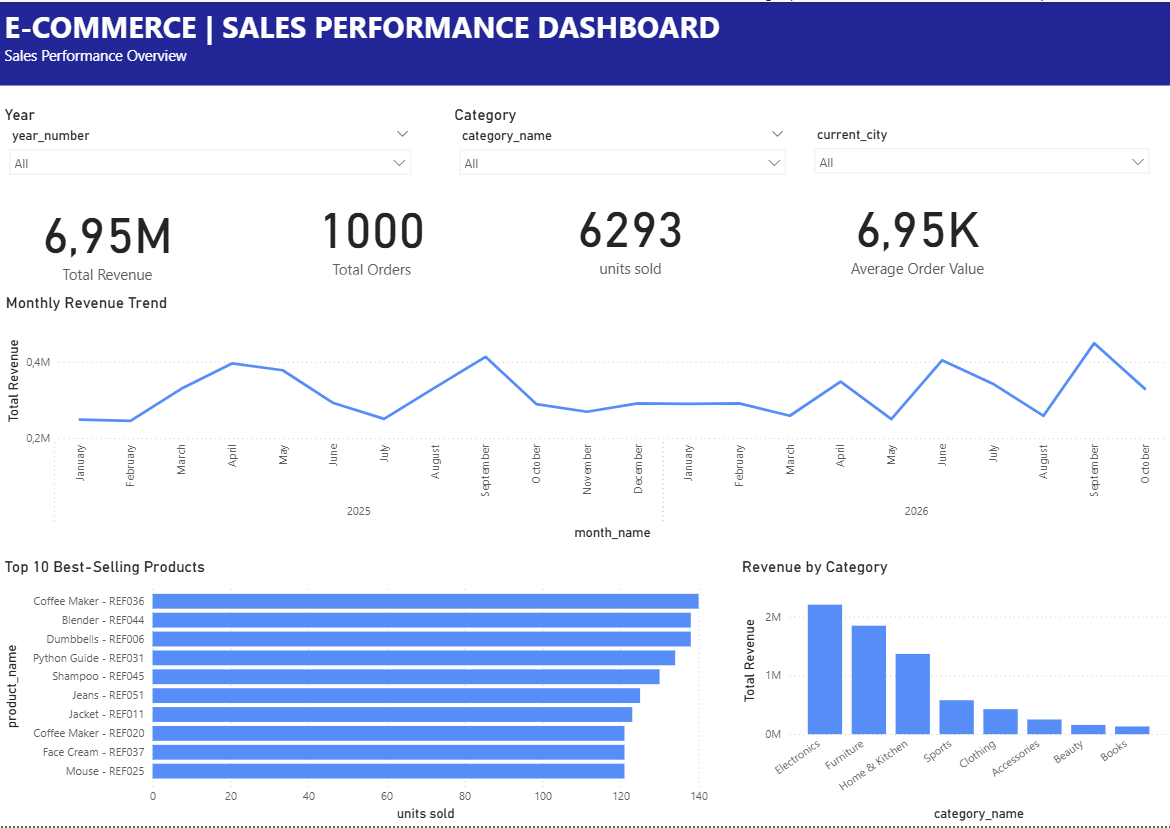

What the dashboard file says about the page in this screenshot:
{"tool":"powerbi","page":{"name":"Page 1","canvas":[1280,900],"ordinal":0},"visuals":[{"type":"card","fields":{"Values":["analytics fact_sales.Total Revenue"]},"box":[1.4,203.4,232,111.9],"z":0},{"type":"card","fields":{"Values":["analytics fact_sales.Total Orders"]},"box":[294.8,203.4,222.5,99.6],"z":1000},{"type":"card","fields":{"Values":["analytics fact_sales.units sold"]},"box":[571.9,203.4,233.4,98.3],"z":2000},{"type":"card","fields":{"Values":["analytics fact_sales.Average Order Value"]},"box":[902.2,197.9,199.3,109.2],"z":3000},{"type":"lineChart","title":"Monthly Revenue Trend","fields":{"Category":["analytics dim_date.year_number","analytics dim_date.month_name"],"Y":["analytics fact_sales.Total Revenue"]},"box":[1.4,318,1276.2,274.3],"z":4000},{"type":"clusteredBarChart","title":"Top 10 Best-Selling Products","fields":{"Category":["analytics v_dim_product_current.product_name"],"Y":["analytics fact_sales.units sold"]},"box":[0,606,778,293.5],"z":5000},{"type":"clusteredColumnChart","title":"Revenue by Category","fields":{"Category":["analytics v_dim_product_current.category_name"],"Y":["analytics fact_sales.Total Revenue"]},"box":[805.3,606,475,293.5],"z":6000},{"type":"slicer","title":"Year","fields":{"Values":["analytics dim_date.year_number"]},"box":[0,113.3,458.6,90.1],"z":7000},{"type":"slicer","fields":{"Values":["analytics v_dim_customer_current.current_city"]},"box":[879,131,386.3,72.3],"z":8000},{"type":"slicer","title":"Category","fields":{"Values":["analytics v_dim_product_current.category_name"]},"box":[491.4,113.3,376.7,90.1],"z":9000},{"type":"textbox","box":[0,0,1277.5,91.4],"z":10000}]}

Visuals, with their boxes in screenshot pixels (x1, y1, x2, y2), scaled from the page's 1280x900 canvas onto the 1170x828 screenshot:
card - analytics fact_sales.Total Revenue: BBox(1, 187, 213, 290)
card - analytics fact_sales.Total Orders: BBox(269, 187, 473, 279)
card - analytics fact_sales.units sold: BBox(523, 187, 736, 278)
card - analytics fact_sales.Average Order Value: BBox(825, 182, 1007, 283)
"Monthly Revenue Trend" lineChart: BBox(1, 293, 1168, 545)
"Top 10 Best-Selling Products" clusteredBarChart: BBox(0, 558, 711, 827)
"Revenue by Category" clusteredColumnChart: BBox(736, 558, 1169, 827)
"Year" slicer: BBox(0, 104, 419, 187)
slicer - analytics v_dim_customer_current.current_city: BBox(803, 121, 1157, 187)
"Category" slicer: BBox(449, 104, 793, 187)
textbox: BBox(0, 0, 1168, 84)
